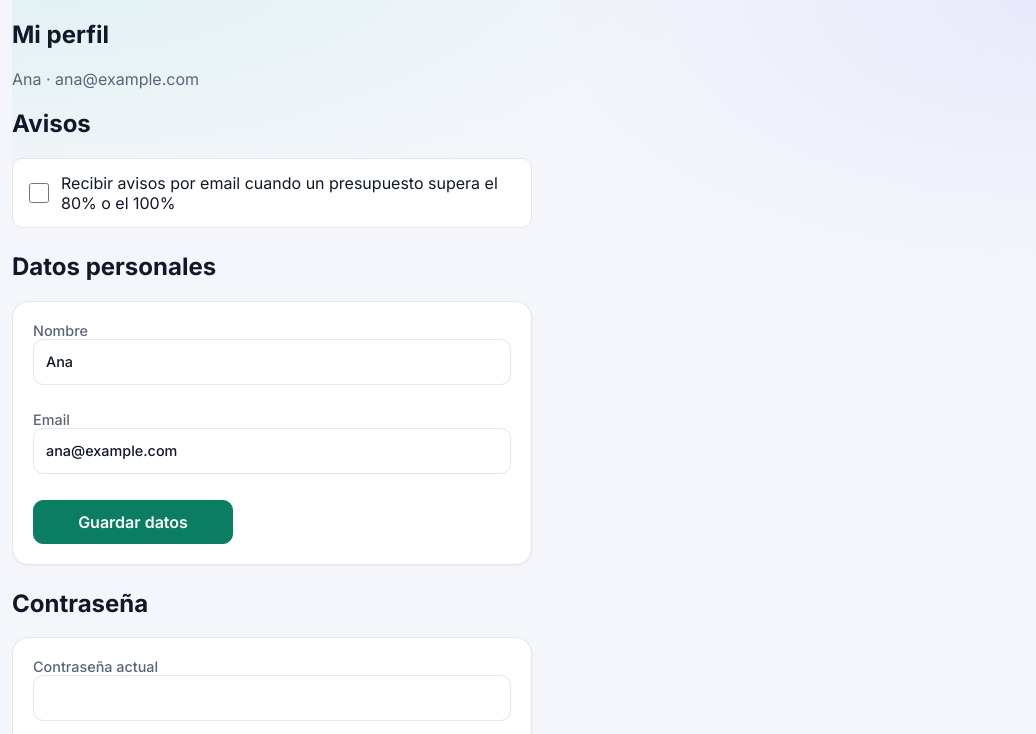
Test case: PerfilView › si falla el cambio del checkbox lo revierte y muestra el error
What coordinates should you click on to do the following:
click the checkbox
I would click on:
 (39, 193)
Its box is [29,183,49,203].
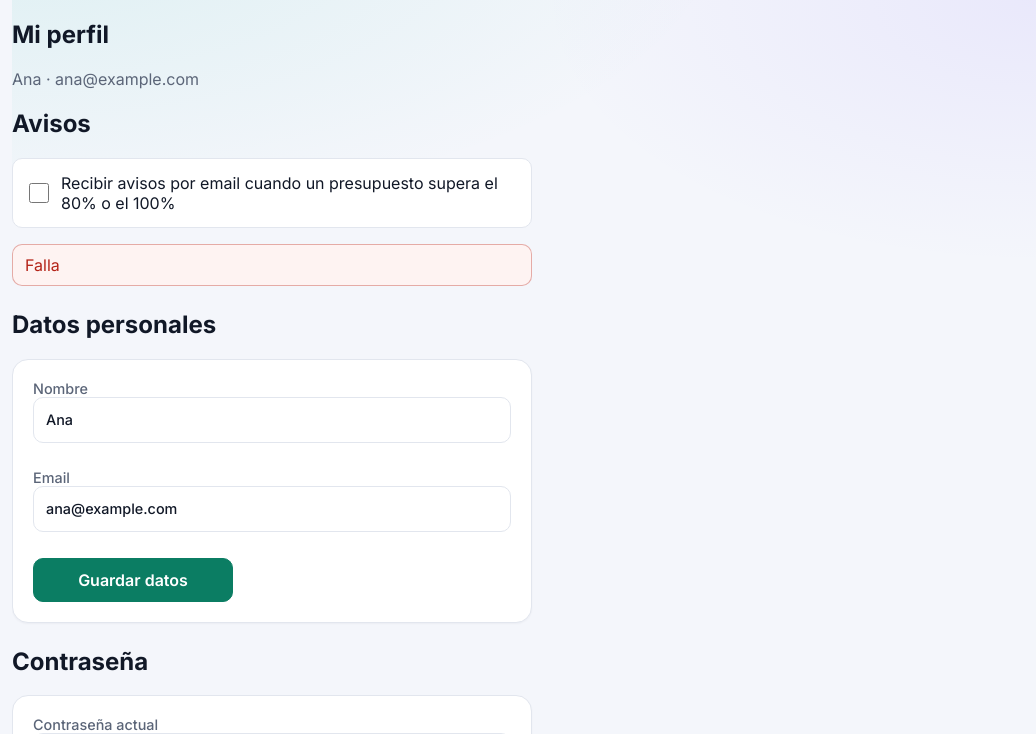
Result: the message "Falla" is shown at [12,244,532,286]
